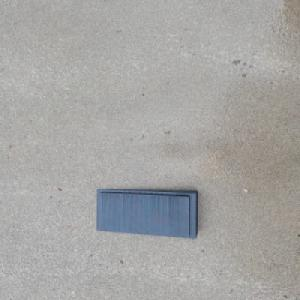PlasticPart: (95, 188, 199, 239)
